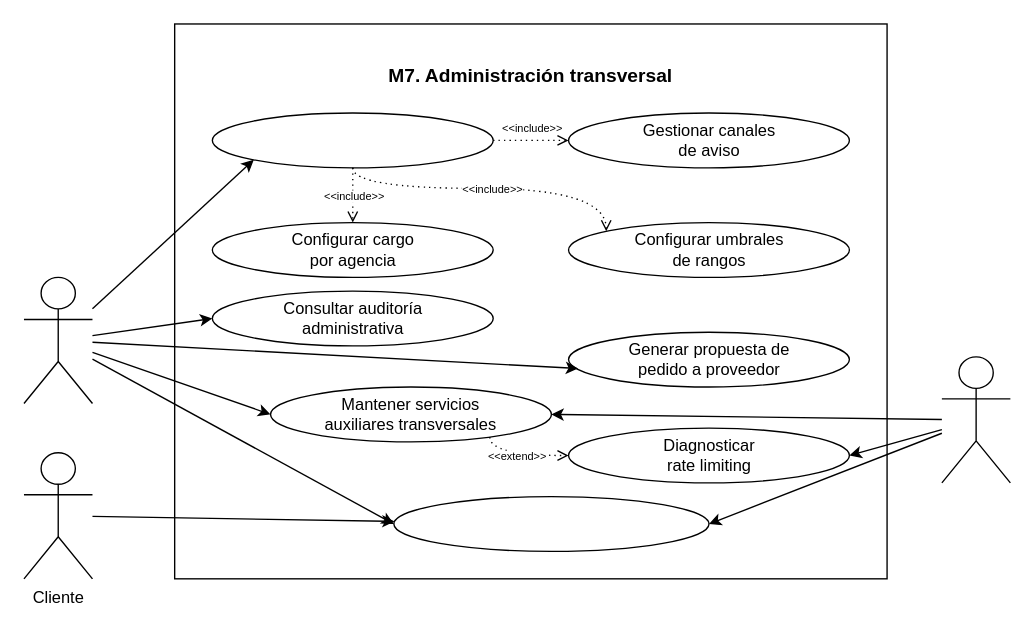
The diagram is 1034 pixels wide and 632 high, and some of its shapes have lost their labels. Each missing label, with the centre of its shape:
"Admin" belongs at pixel 57 339.
"Administrar configuración del sistema" belongs at pixel 352 140.
"Equipo técnico" belongs at pixel 975 419.
"Ofrecer soporte PWA y compatibilidad" belongs at pixel 551 523.
